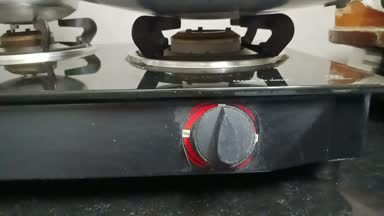noflame_gason: (120, 9, 320, 174)
